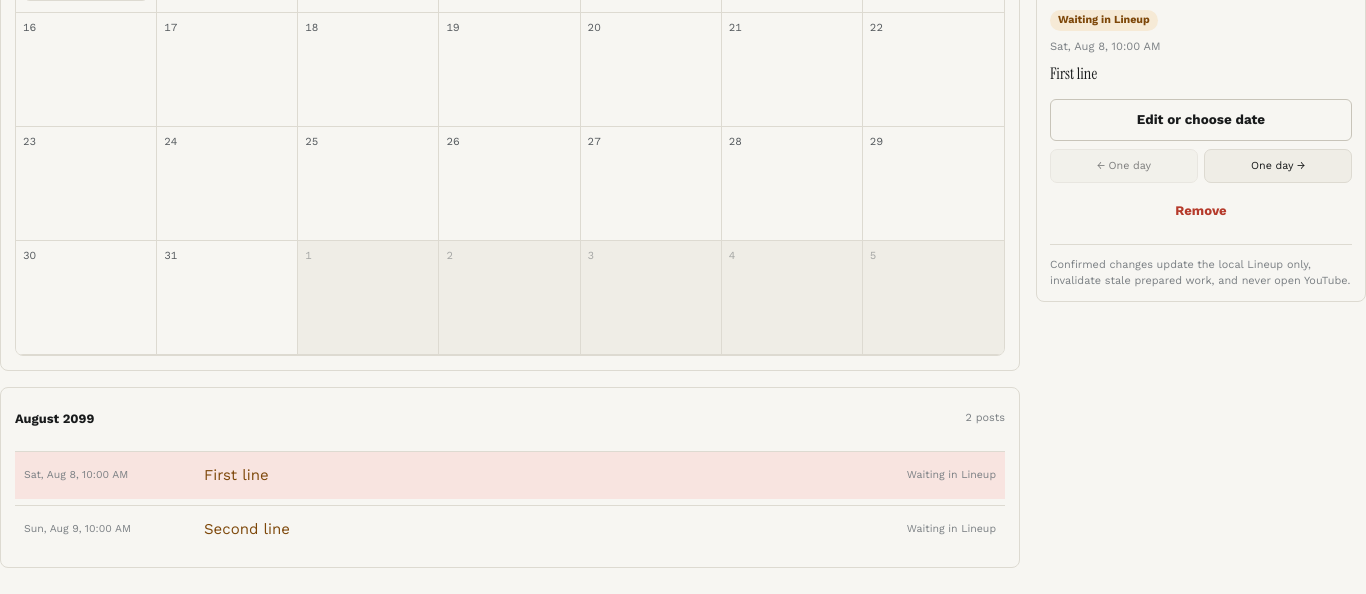
LineupCalendar › uses a warning state and local-only removal copy when YouTube is off
(page scrolled)
Click the button "Remove" at (1201, 211), box [1050,191,1352,231]
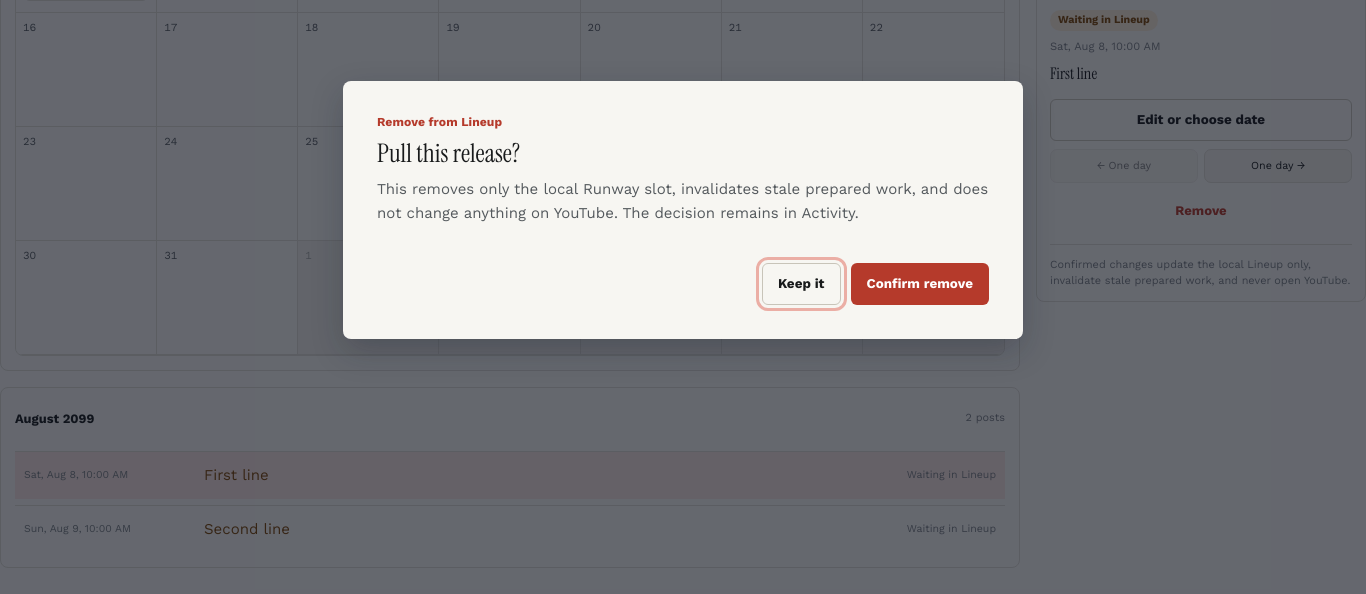
expect the dialog does not show "removes the scheduled post from YouTube": met, box [343,81,1023,339]
expect the dialog shows "This removes only the local Runway slot": met, box [377,180,988,222]
expect the dialog shows "does not change anything on YouTube": met, box [377,180,988,222]
